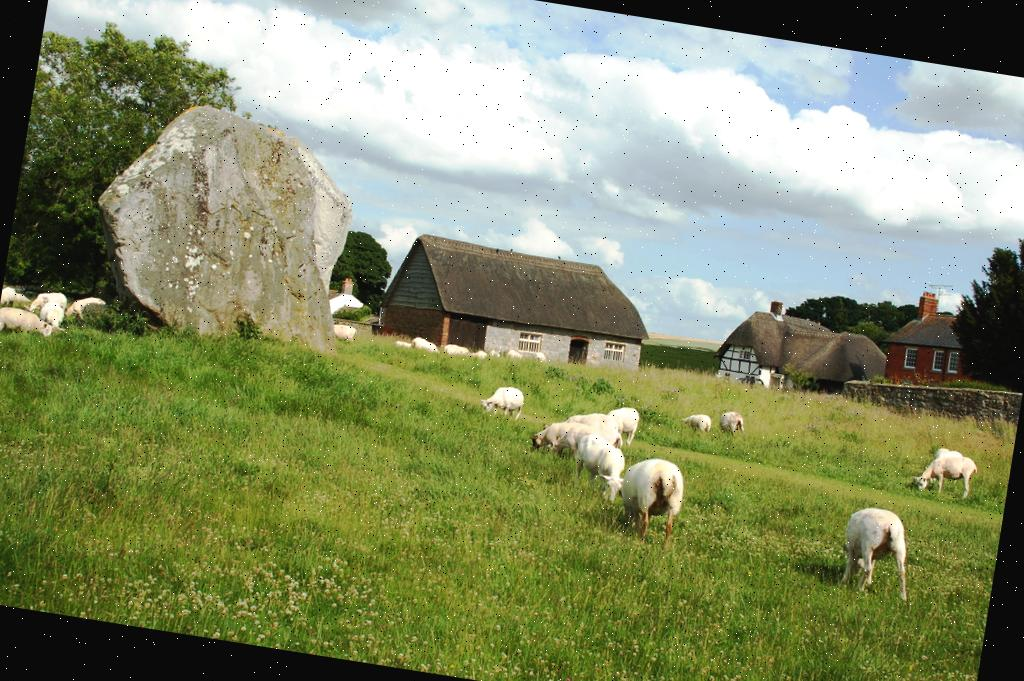Sheep: (831, 502, 920, 605), (611, 452, 687, 548), (562, 430, 631, 498), (913, 448, 979, 502), (0, 304, 60, 340), (531, 414, 576, 454), (602, 402, 640, 446), (478, 381, 523, 418), (65, 292, 108, 324), (28, 286, 68, 318), (0, 284, 34, 311), (718, 411, 742, 435), (410, 335, 440, 352), (329, 322, 355, 340), (442, 342, 471, 358), (687, 411, 708, 431), (936, 446, 946, 456)
